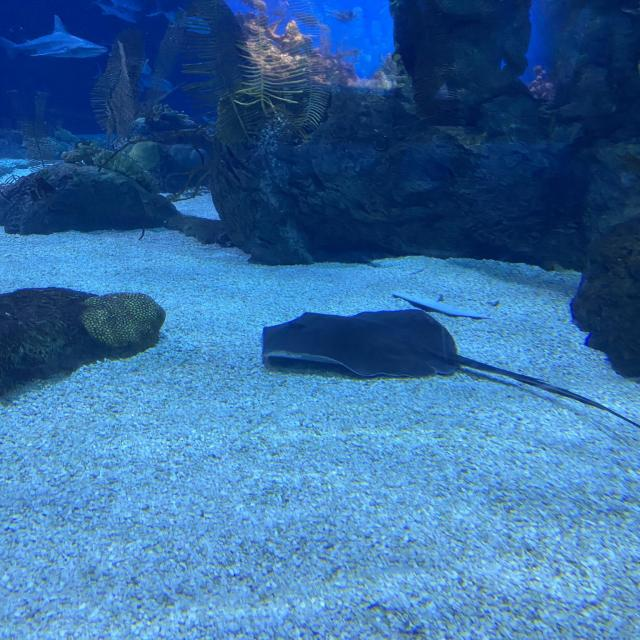fish: (93, 63, 174, 95), (146, 1, 210, 34), (85, 0, 141, 23)
shark: (1, 12, 110, 59)
stingray: (259, 307, 461, 380)
